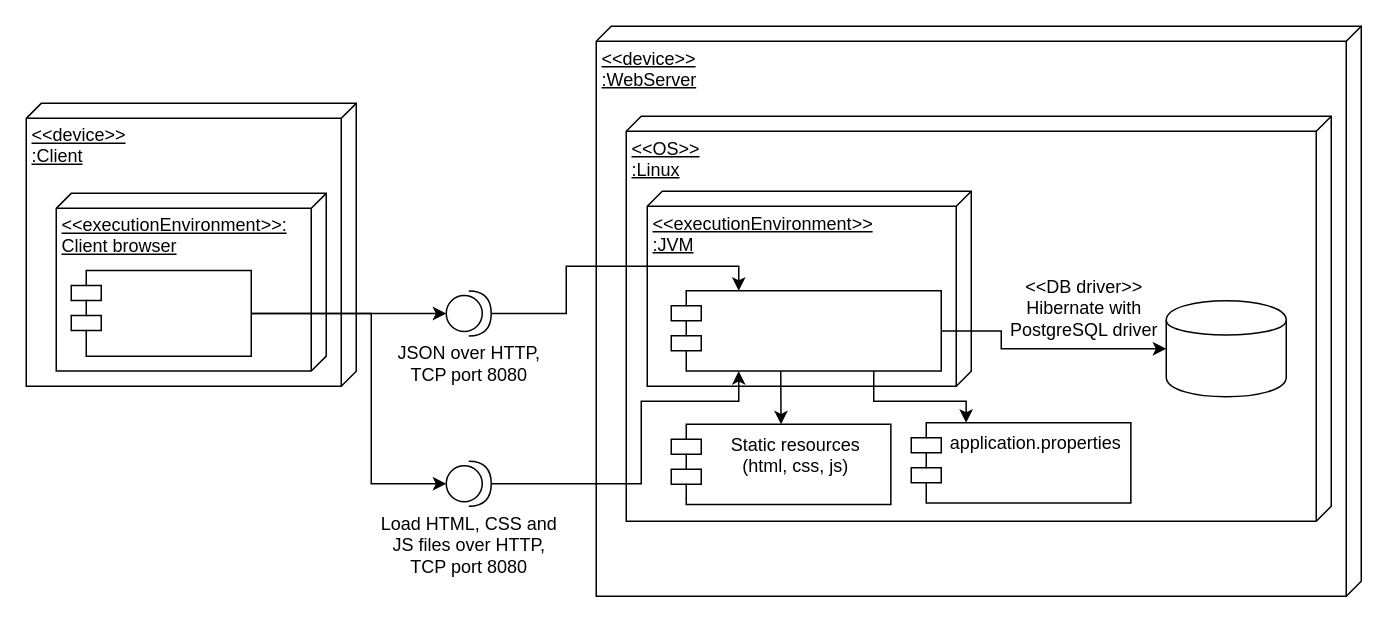
Image size: 1388x623. Some labels were removed from this diagram. Each missing label, with the centre of its shape:
"ContractSystem.jar" belongs at (805,330).
"Frontend web appliation" belongs at (160,312).
"«database » PostgreSQL" belongs at (1225,348).
